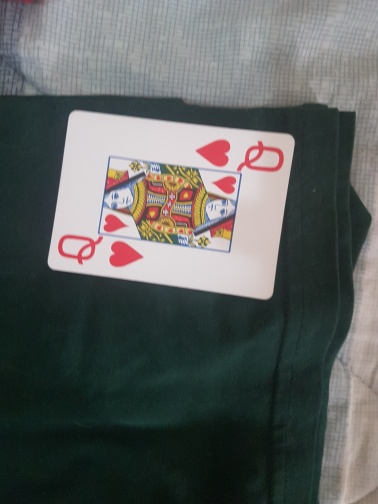queen: (47, 110, 297, 306)
